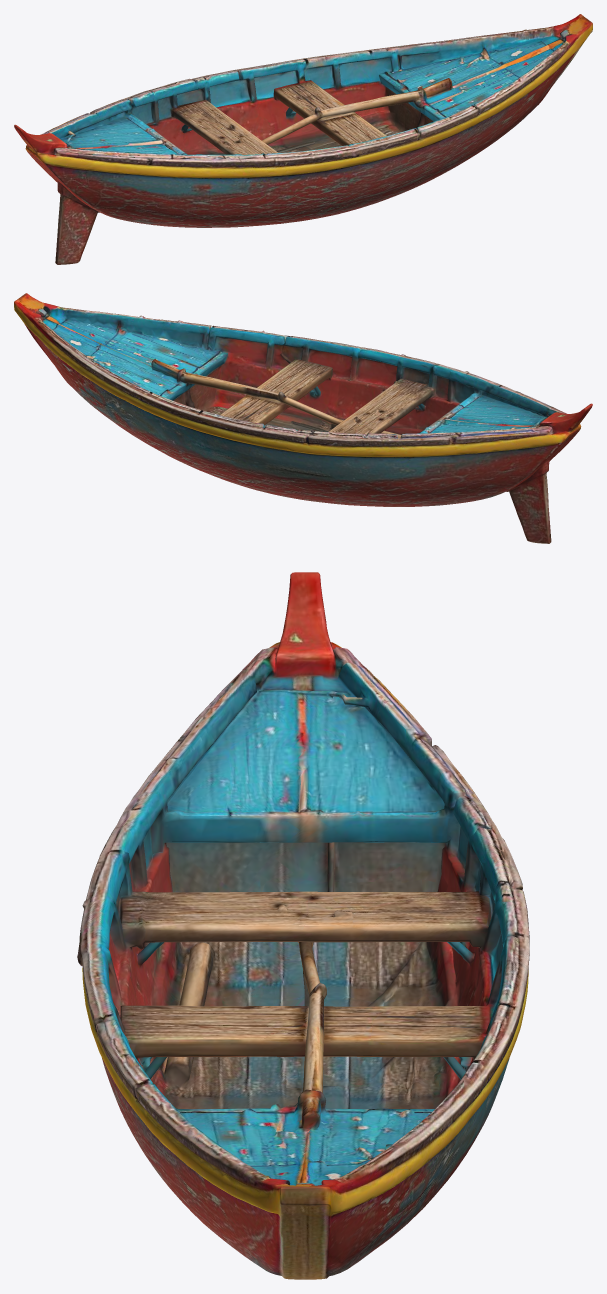
File: boat-game-1k.glb
3 views of the same model, one above another, from view 1: azimuth 30°, elevation 25°; view 2: azimuth 150°, elevation 25°; view 3: azimuth 270°, elevation 25° (orthographic). The views are drawn at different scales.
Parts seen in each view (by area): view 1: tripo_node_ce566a43-ad53-47f5-b3ce-cf83857ab32c; view 2: tripo_node_ce566a43-ad53-47f5-b3ce-cf83857ab32c; view 3: tripo_node_ce566a43-ad53-47f5-b3ce-cf83857ab32c.
Boxes of the visible parts, box(x1,y1,x2,y2) form: tripo_node_ce566a43-ad53-47f5-b3ce-cf83857ab32c: box(14, 14, 592, 264); tripo_node_ce566a43-ad53-47f5-b3ce-cf83857ab32c: box(14, 293, 592, 543); tripo_node_ce566a43-ad53-47f5-b3ce-cf83857ab32c: box(77, 572, 529, 1279).
Bounding box in the file's own units: 1 × 0.25 × 0.3437.
Materials: 1 (1 with a texture image).
